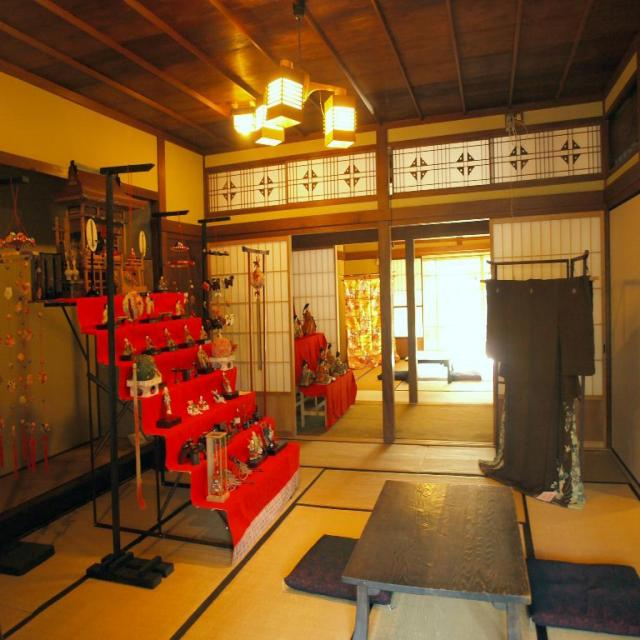table: (325, 465, 537, 632)
